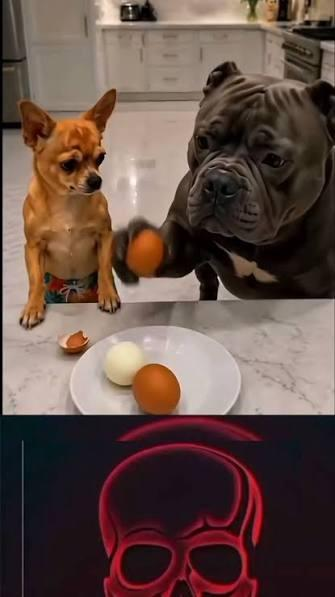adult_dog: (109, 61, 335, 304), (17, 88, 124, 331)
